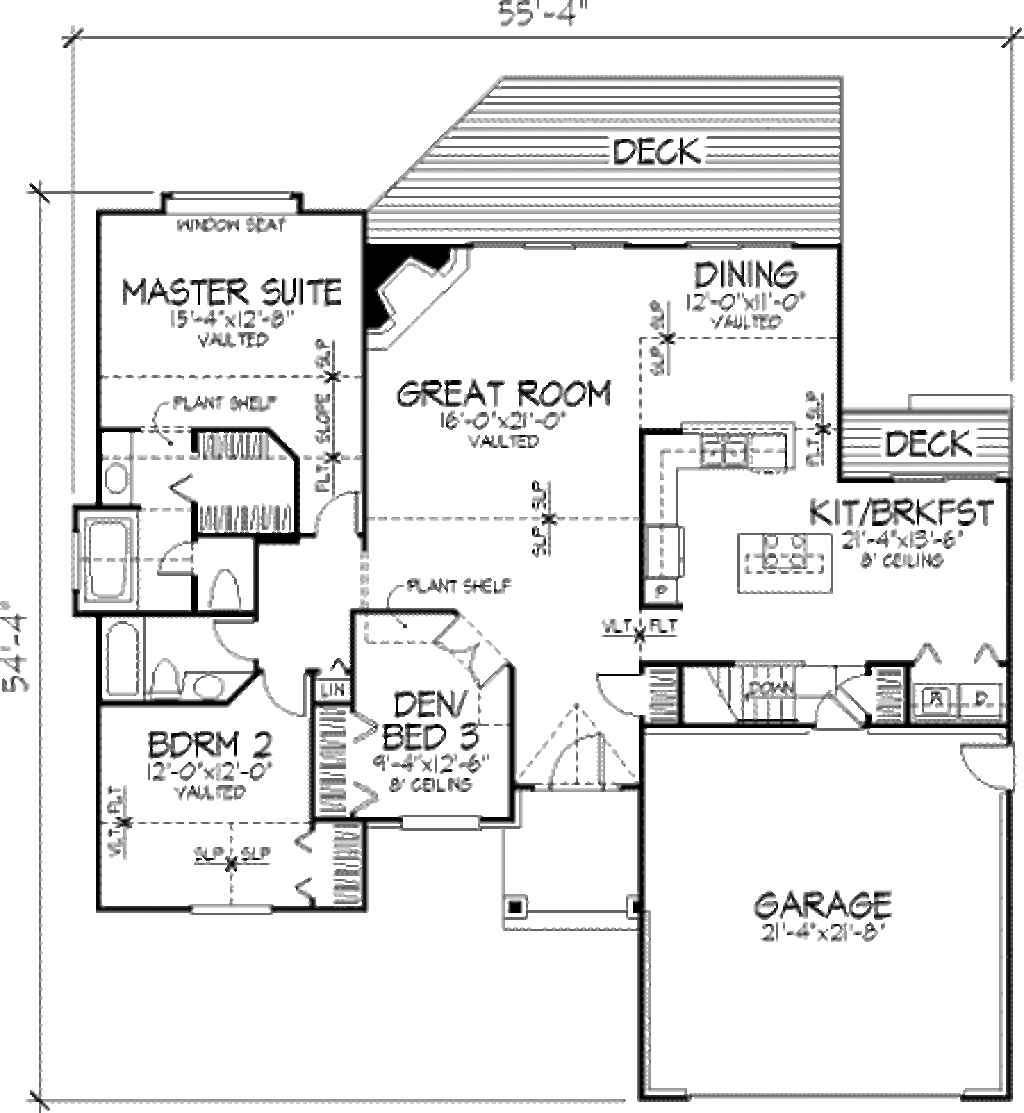door: (416, 607, 521, 695), (533, 726, 635, 795), (585, 649, 654, 721), (292, 488, 381, 535), (799, 687, 871, 738), (963, 738, 1021, 792), (204, 614, 259, 668), (838, 659, 880, 726), (261, 668, 314, 719), (150, 542, 197, 583)
large_sink: (144, 649, 183, 706)
small_sink: (92, 430, 152, 504), (188, 675, 230, 707)
tub: (83, 504, 135, 606), (102, 606, 150, 707)
twin_sink: (699, 431, 757, 478)
window: (150, 175, 335, 214)
